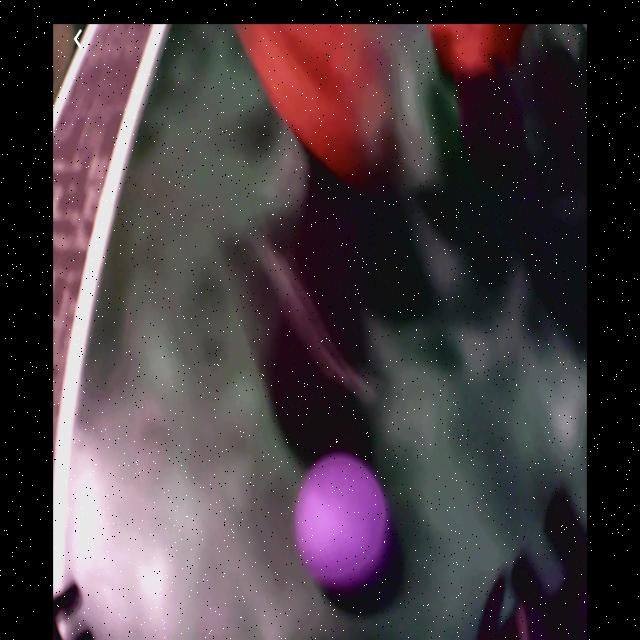ball: (297, 454, 388, 591)
